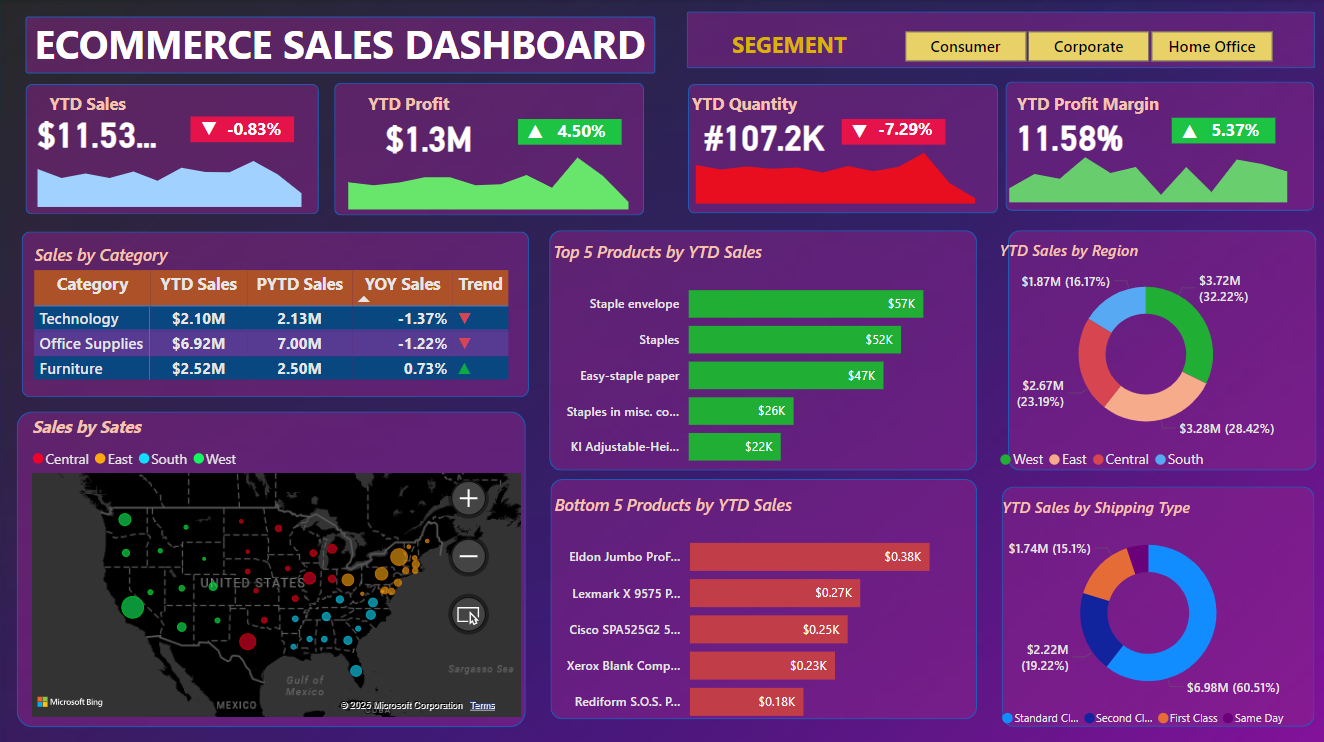

The page's visual inventory and layout, read from the dashboard file:
{"tool":"powerbi","page":{"name":"Page 1","canvas":[1280,720],"ordinal":0},"visuals":[{"type":"shape","box":[26.9,17.1,607.9,54.9],"z":0},{"type":"textbox","box":[30.2,13.7,628.5,64.5],"z":1000},{"type":"shape","box":[26,81.8,283.1,126],"z":2000},{"type":"card","fields":{"Values":["ecommerce_data.YTD Sales"]},"box":[30.5,102.5,130.6,53.7],"z":3000},{"type":"areaChart","fields":{"Category":["Calendar.Month"],"Y":["Sum(ecommerce_data.sales_per_order)"]},"box":[24.4,135.5,283.2,70.8],"z":4000},{"type":"shape","box":[186,114,100,24.4],"z":5000},{"type":"card","fields":{"Values":["ecommerce_data.YOY Sales"]},"box":[209.3,114,76.7,28],"z":6000},{"type":"card","fields":{"Values":["ecommerce_data.Sales Icon"]},"box":[164.8,112.3,76.9,29.3],"z":7000},{"type":"textbox","box":[45.2,84.2,101.3,31.7],"z":8000},{"type":"shape","box":[665.5,82.3,299.1,124.9],"z":9000},{"type":"card","fields":{"Values":["ecommerce_data.YTD Concatenated Qty"]},"box":[668.3,105.7,142.7,52.1],"z":10000},{"type":"areaChart","fields":{"Category":["Calendar.Month"],"Y":["Sum(ecommerce_data.order_quantity)"]},"box":[658.7,133.1,299.1,70],"z":11000},{"type":"shape","box":[814.3,115.3,100,24.4],"z":12000},{"type":"card","fields":{"Values":["ecommerce_data.YOY Qty"]},"box":[837.4,113.5,76.9,28.1],"z":13000},{"type":"card","fields":{"Values":["ecommerce_data.Qty Icon"]},"box":[793.4,114.7,75.7,29.3],"z":14000},{"type":"textbox","box":[664.5,84.4,129,31.4],"z":15000},{"type":"shape","box":[972.9,79.6,297.8,124.9],"z":16000},{"type":"areaChart","fields":{"Category":["Calendar.Month"],"Y":["ecommerce_data.Profit Margin"]},"box":[961.9,131.7,297.8,70],"z":17000},{"type":"shape","box":[1132.8,114.7,100.1,24.4],"z":18000},{"type":"card","fields":{"Values":["ecommerce_data.YOY Profit Margin"]},"box":[1156,114.7,76.9,26.9],"z":19000},{"type":"card","fields":{"Values":["ecommerce_data.Profit Margin Icon"]},"box":[1112,114.7,75.7,29.3],"z":20000},{"type":"textbox","box":[979,84.2,167.2,31.7],"z":21000},{"type":"card","fields":{"Values":["ecommerce_data.YTD Profit Margin"]},"box":[964.3,105,140.4,53.7],"z":22000},{"type":"shape","box":[23.2,224.6,489.5,159.9],"z":23000},{"type":"shape","box":[324.7,80.6,299.1,128.2],"z":24000},{"type":"card","fields":{"Values":["ecommerce_data.YTD Profit"]},"box":[334.5,106.2,163.6,53.7],"z":25000},{"type":"areaChart","fields":{"Category":["Calendar.Month"],"Y":["Sum(ecommerce_data.profit_per_order)"]},"box":[323.5,137.9,300.3,70.8],"z":26000},{"type":"shape","box":[501.8,116.4,100,24.4],"z":27000},{"type":"card","fields":{"Values":["ecommerce_data.YOY Profit"]},"box":[525,116.4,76.7,27.9],"z":28000},{"type":"card","fields":{"Values":["ecommerce_data.Profit Icon"]},"box":[480.7,114.7,76.9,29.3],"z":29000},{"type":"textbox","box":[352.8,84.2,101.3,34.2],"z":30000},{"type":"pivotTable","title":"Sales by Category","fields":{"Rows":["ecommerce_data.category_name"],"Values":["ecommerce_data.YTD Sales","ecommerce_data.PYTD Sales","ecommerce_data.YOY Sales","ecommerce_data.Sales Icon"]},"box":[30.5,235.6,484.6,148.9],"z":31000},{"type":"shape","box":[17.8,397.9,491.3,304.6],"z":32000},{"type":"map","title":"Sales by Sates","fields":{"Y":["us_state_long_lat_codes.latitude"],"X":["us_state_long_lat_codes.longitude"],"Size":["ecommerce_data.YTD Sales"],"Series":["ecommerce_data.customer_region"]},"box":[27.4,402.1,481.6,296.4],"z":33000},{"type":"shape","box":[532.4,223.7,413,231.9],"z":34000},{"type":"shape","box":[533.8,463.8,411.7,231.9],"z":35000},{"type":"barChart","title":"Top 5 Products by YTD Sales","fields":{"Category":["ecommerce_data.product_name"],"Y":["ecommerce_data.YTD Sales"]},"box":[530.6,232.6,411.4,232.6],"z":36000},{"type":"barChart","title":"Bottom 5 Products by YTD Sales","fields":{"Category":["ecommerce_data.product_name"],"Y":["ecommerce_data.YTD Sales"]},"box":[532,476.8,411.4,235.5],"z":37000},{"type":"shape","box":[974.3,223.7,297.8,231.9],"z":38000},{"type":"shape","box":[664.2,12.3,606.5,54.9],"z":39000},{"type":"shape","box":[968.8,470.7,301.9,231.9],"z":40000},{"type":"donutChart","title":"YTD Sales by Region","fields":{"Y":["ecommerce_data.YTD Sales"],"Category":["ecommerce_data.customer_region"]},"box":[961.9,231.9,293,231.9],"z":41000},{"type":"donutChart","title":"YTD Sales by Shipping Type","fields":{"Y":["ecommerce_data.YTD Sales"],"Category":["ecommerce_data.shipping_type"]},"box":[964.3,479.7,293,231.9],"z":42000},{"type":"slicer","fields":{"Values":["ecommerce_data.customer_segment"]},"box":[849.4,24.7,404.8,42.5],"z":43000},{"type":"textbox","box":[703.1,24.4,146.5,47.6],"z":44000}]}

Visuals, with their boxes in screenshot pixels (x1, y1, x2, y2), scaled from the page's 1280x720 canvas onto the 1324x742 screenshot:
shape: {"x1": 28, "y1": 18, "x2": 657, "y2": 74}
textbox: {"x1": 31, "y1": 14, "x2": 681, "y2": 81}
shape: {"x1": 27, "y1": 84, "x2": 320, "y2": 214}
card - ecommerce_data.YTD Sales: {"x1": 32, "y1": 106, "x2": 167, "y2": 161}
areaChart - Calendar.Month x Sum(ecommerce_data.sales_per_order): {"x1": 25, "y1": 140, "x2": 318, "y2": 213}
shape: {"x1": 192, "y1": 117, "x2": 296, "y2": 143}
card - ecommerce_data.YOY Sales: {"x1": 216, "y1": 117, "x2": 296, "y2": 146}
card - ecommerce_data.Sales Icon: {"x1": 170, "y1": 116, "x2": 250, "y2": 146}
textbox: {"x1": 47, "y1": 87, "x2": 152, "y2": 119}
shape: {"x1": 688, "y1": 85, "x2": 998, "y2": 214}
card - ecommerce_data.YTD Concatenated Qty: {"x1": 691, "y1": 109, "x2": 839, "y2": 163}
areaChart - Calendar.Month x Sum(ecommerce_data.order_quantity): {"x1": 681, "y1": 137, "x2": 991, "y2": 209}
shape: {"x1": 842, "y1": 119, "x2": 946, "y2": 144}
card - ecommerce_data.YOY Qty: {"x1": 866, "y1": 117, "x2": 946, "y2": 146}
card - ecommerce_data.Qty Icon: {"x1": 821, "y1": 118, "x2": 899, "y2": 148}
textbox: {"x1": 687, "y1": 87, "x2": 821, "y2": 119}
shape: {"x1": 1006, "y1": 82, "x2": 1314, "y2": 211}
areaChart - Calendar.Month x ecommerce_data.Profit Margin: {"x1": 995, "y1": 136, "x2": 1303, "y2": 208}
shape: {"x1": 1172, "y1": 118, "x2": 1275, "y2": 143}
card - ecommerce_data.YOY Profit Margin: {"x1": 1196, "y1": 118, "x2": 1275, "y2": 146}
card - ecommerce_data.Profit Margin Icon: {"x1": 1150, "y1": 118, "x2": 1229, "y2": 148}
textbox: {"x1": 1013, "y1": 87, "x2": 1186, "y2": 119}
card - ecommerce_data.YTD Profit Margin: {"x1": 997, "y1": 108, "x2": 1143, "y2": 164}
shape: {"x1": 24, "y1": 231, "x2": 530, "y2": 396}
shape: {"x1": 336, "y1": 83, "x2": 645, "y2": 215}
card - ecommerce_data.YTD Profit: {"x1": 346, "y1": 109, "x2": 515, "y2": 165}
areaChart - Calendar.Month x Sum(ecommerce_data.profit_per_order): {"x1": 335, "y1": 142, "x2": 645, "y2": 215}
shape: {"x1": 519, "y1": 120, "x2": 622, "y2": 145}
card - ecommerce_data.YOY Profit: {"x1": 543, "y1": 120, "x2": 622, "y2": 149}
card - ecommerce_data.Profit Icon: {"x1": 497, "y1": 118, "x2": 577, "y2": 148}
textbox: {"x1": 365, "y1": 87, "x2": 470, "y2": 122}
"Sales by Category" pivotTable: {"x1": 32, "y1": 243, "x2": 533, "y2": 396}
shape: {"x1": 18, "y1": 410, "x2": 527, "y2": 724}
"Sales by Sates" map: {"x1": 28, "y1": 414, "x2": 526, "y2": 720}
shape: {"x1": 551, "y1": 231, "x2": 978, "y2": 470}
shape: {"x1": 552, "y1": 478, "x2": 978, "y2": 717}
"Top 5 Products by YTD Sales" barChart: {"x1": 549, "y1": 240, "x2": 974, "y2": 479}
"Bottom 5 Products by YTD Sales" barChart: {"x1": 550, "y1": 491, "x2": 976, "y2": 734}
shape: {"x1": 1008, "y1": 231, "x2": 1316, "y2": 470}
shape: {"x1": 687, "y1": 13, "x2": 1314, "y2": 69}
shape: {"x1": 1002, "y1": 485, "x2": 1314, "y2": 724}
"YTD Sales by Region" donutChart: {"x1": 995, "y1": 239, "x2": 1298, "y2": 478}
"YTD Sales by Shipping Type" donutChart: {"x1": 997, "y1": 494, "x2": 1301, "y2": 733}
slicer - ecommerce_data.customer_segment: {"x1": 879, "y1": 25, "x2": 1297, "y2": 69}
textbox: {"x1": 727, "y1": 25, "x2": 879, "y2": 74}
